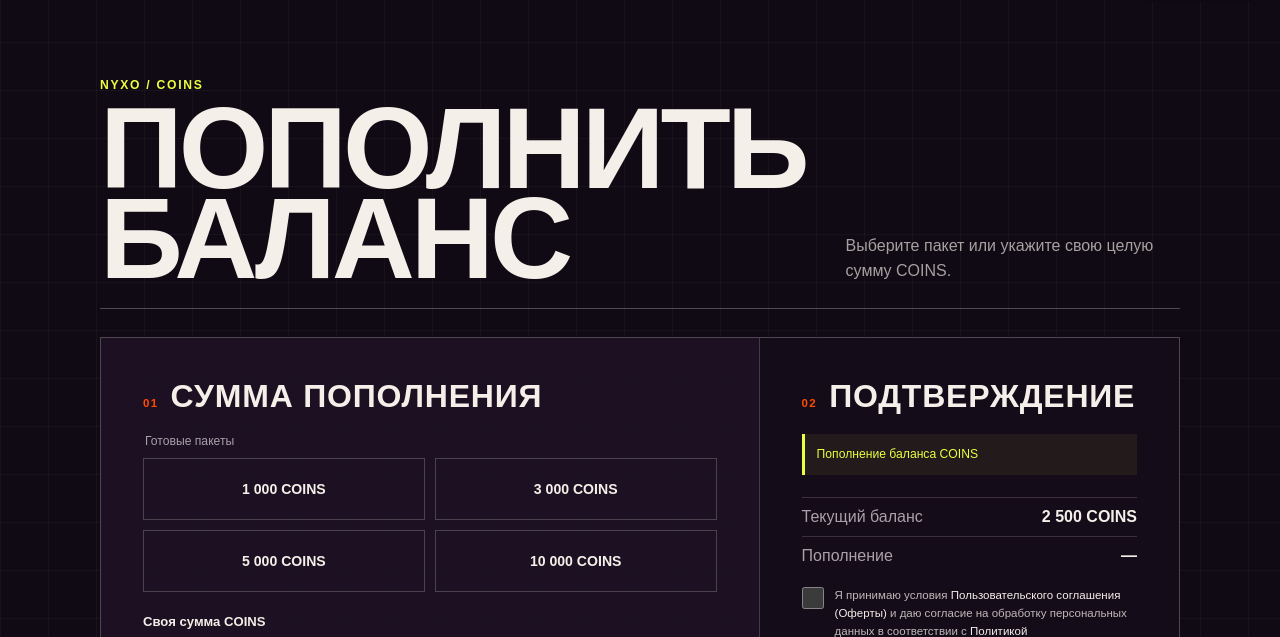
Test: TopUpPage › keeps submit explicitly disabled until a valid amount and consent are present
Click the checkbox named "Я принимаю условия Пользовательского соглашения (Оферты) и даю согласие на обработку персональных данных в соответствии " at (813, 598), box [802,587,824,609]
(page scrolled)
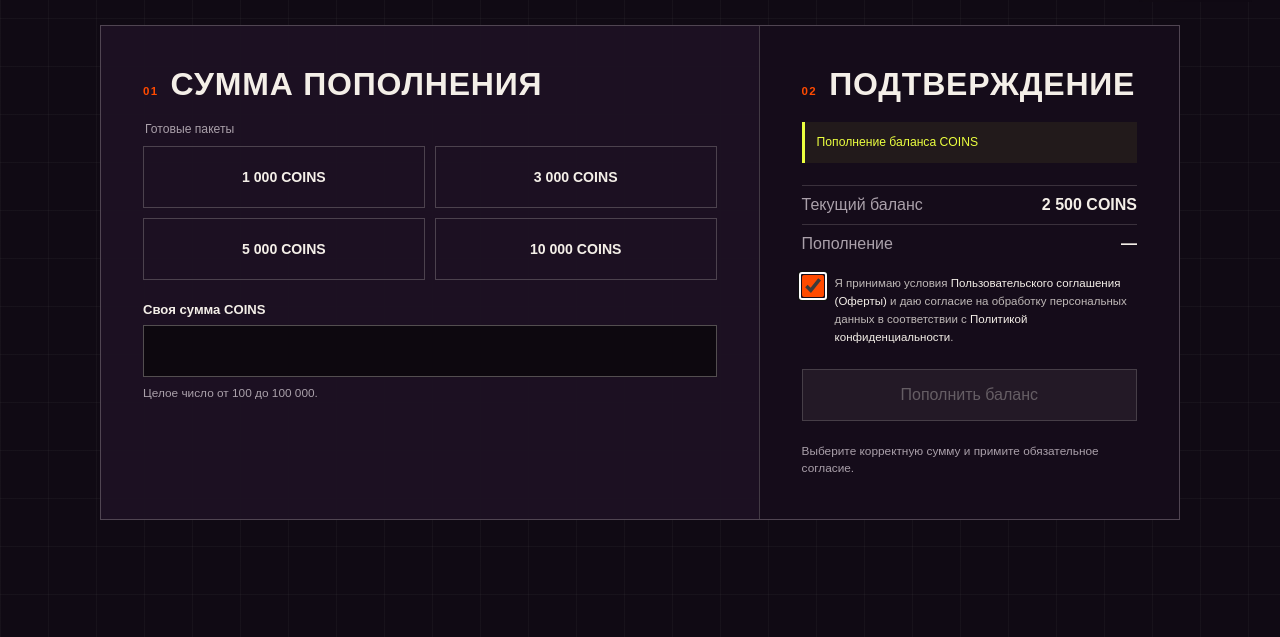
Expected: the button "Пополнить баланс" is disabled, [802,369,1137,421]
Type "99" into the number field labelled "Своя сумма COINS" at (430, 351), box [143,325,717,377]
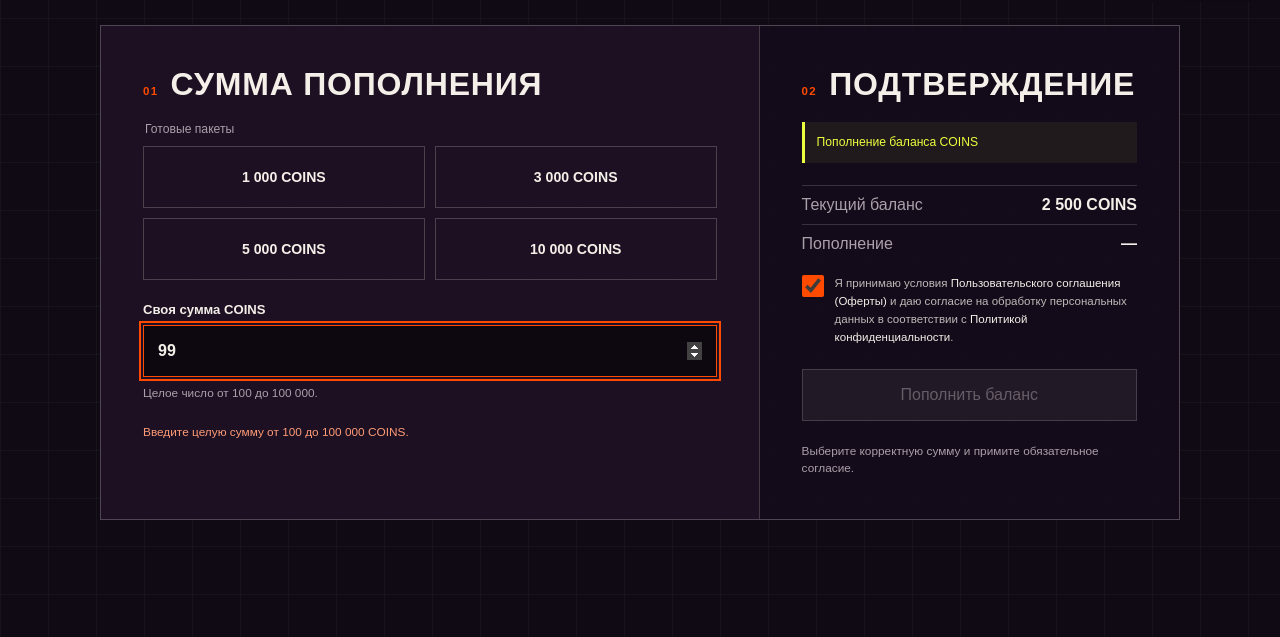
Expected: the button "Пополнить баланс" is disabled, [802,369,1137,421]
Expected: the message shows "от 100 до 100 000 COINS", [143,425,409,439]
Replace the text in the number field labelled "Своя сумма COINS" with "100000" at (430, 351), box [143,325,717,377]
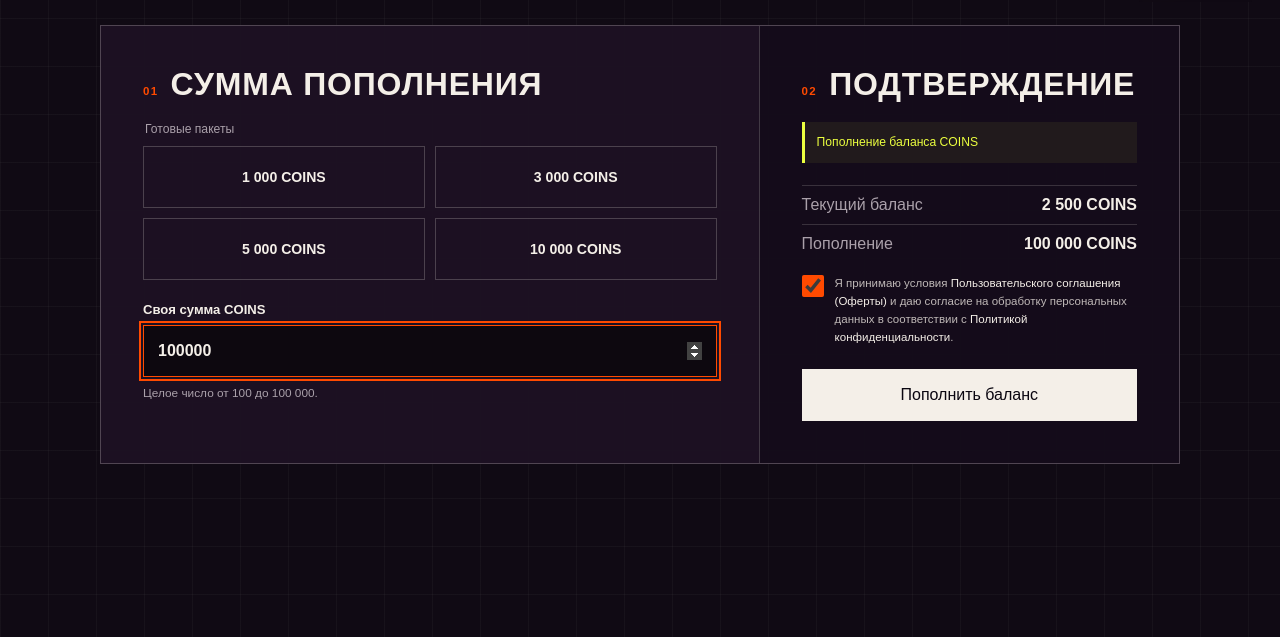
Expected: the button "Пополнить баланс" is enabled, [802,369,1137,421]
